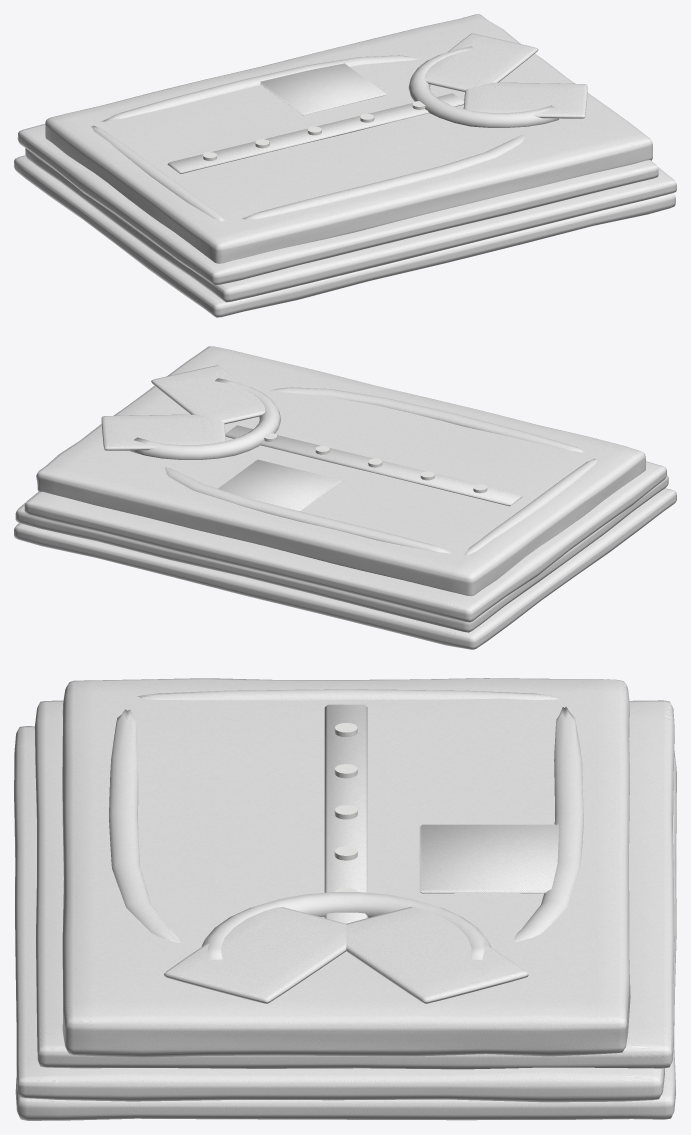
Rendered from dress_shirt.glb.
3 renders of one model, top to bottom at view 1: azimuth 30°, elevation 25°; view 2: azimuth 150°, elevation 25°; view 3: azimuth 270°, elevation 25°, orthographic. The views are drawn at different scales.
Parts seen in each view (by area): view 1: dshirt_layer, dshirt_fold2, dshirt_fold1, dshirt_fold0, dshirt_wing1, dshirt_wing-1, dshirt_pocket, dshirt_placket, dshirt_stand, dshirt_sleeve-1, dshirt_sleeve1, dshirt_hem; view 2: dshirt_layer, dshirt_fold2, dshirt_fold0, dshirt_fold1, dshirt_wing-1, dshirt_wing1, dshirt_placket, dshirt_pocket, dshirt_stand, dshirt_sleeve1, dshirt_sleeve-1, dshirt_hem; view 3: dshirt_layer, dshirt_fold2, dshirt_fold1, dshirt_fold0, dshirt_wing-1, dshirt_wing1, dshirt_pocket, dshirt_placket, dshirt_sleeve-1, dshirt_sleeve1, dshirt_stand, dshirt_hem.
Boxes of the visible parts, x1=… form: dshirt_layer: x1=45, y1=14, x2=652, y2=263; dshirt_fold2: x1=17, y1=124, x2=658, y2=284; dshirt_fold1: x1=25, y1=148, x2=676, y2=302; dshirt_fold0: x1=14, y1=155, x2=675, y2=317; dshirt_wing1: x1=424, y1=33, x2=538, y2=92; dshirt_wing-1: x1=463, y1=82, x2=587, y2=118; dshirt_pocket: x1=260, y1=63, x2=385, y2=115; dshirt_placket: x1=167, y1=93, x2=464, y2=173; dshirt_stand: x1=408, y1=46, x2=559, y2=127; dshirt_sleeve-1: x1=242, y1=134, x2=524, y2=219; dshirt_sleeve1: x1=101, y1=55, x2=420, y2=121; dshirt_hem: x1=91, y1=125, x2=224, y2=221; dshirt_layer: x1=36, y1=346, x2=645, y2=596; dshirt_fold2: x1=24, y1=461, x2=666, y2=622; dshirt_fold0: x1=14, y1=488, x2=676, y2=649; dshirt_fold1: x1=15, y1=475, x2=668, y2=632; dshirt_wing-1: x1=151, y1=365, x2=265, y2=424; dshirt_wing1: x1=101, y1=414, x2=225, y2=450; dshirt_placket: x1=225, y1=425, x2=522, y2=506; dshirt_pocket: x1=218, y1=459, x2=340, y2=511; dshirt_stand: x1=130, y1=378, x2=280, y2=459; dshirt_sleeve1: x1=165, y1=467, x2=451, y2=553; dshirt_sleeve-1: x1=269, y1=387, x2=584, y2=452; dshirt_hem: x1=464, y1=458, x2=597, y2=555; dshirt_layer: x1=62, y1=678, x2=630, y2=1057; dshirt_fold2: x1=34, y1=700, x2=674, y2=1069; dshirt_fold1: x1=14, y1=726, x2=664, y2=1102; dshirt_fold0: x1=15, y1=751, x2=676, y2=1120; dshirt_wing-1: x1=164, y1=907, x2=346, y2=1003; dshirt_wing1: x1=346, y1=907, x2=528, y2=1003; dshirt_pocket: x1=419, y1=824, x2=558, y2=893; dshirt_placket: x1=324, y1=704, x2=367, y2=923; dshirt_sleeve-1: x1=109, y1=709, x2=180, y2=943; dshirt_sleeve1: x1=513, y1=706, x2=583, y2=942; dshirt_stand: x1=201, y1=892, x2=490, y2=959; dshirt_hem: x1=137, y1=689, x2=559, y2=700.
Bounding box in the file's own units: 30.24 × 4.56 × 23.15.
Materials: 2 (1 with a texture image).
